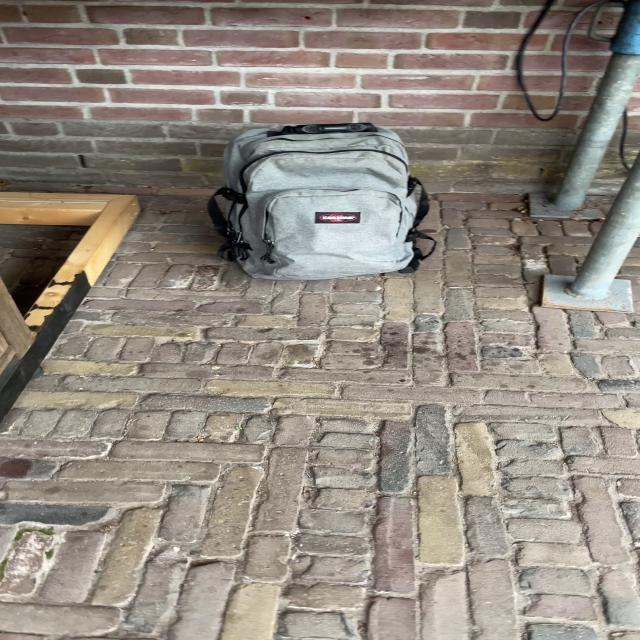backpack: (198, 114, 437, 285)
